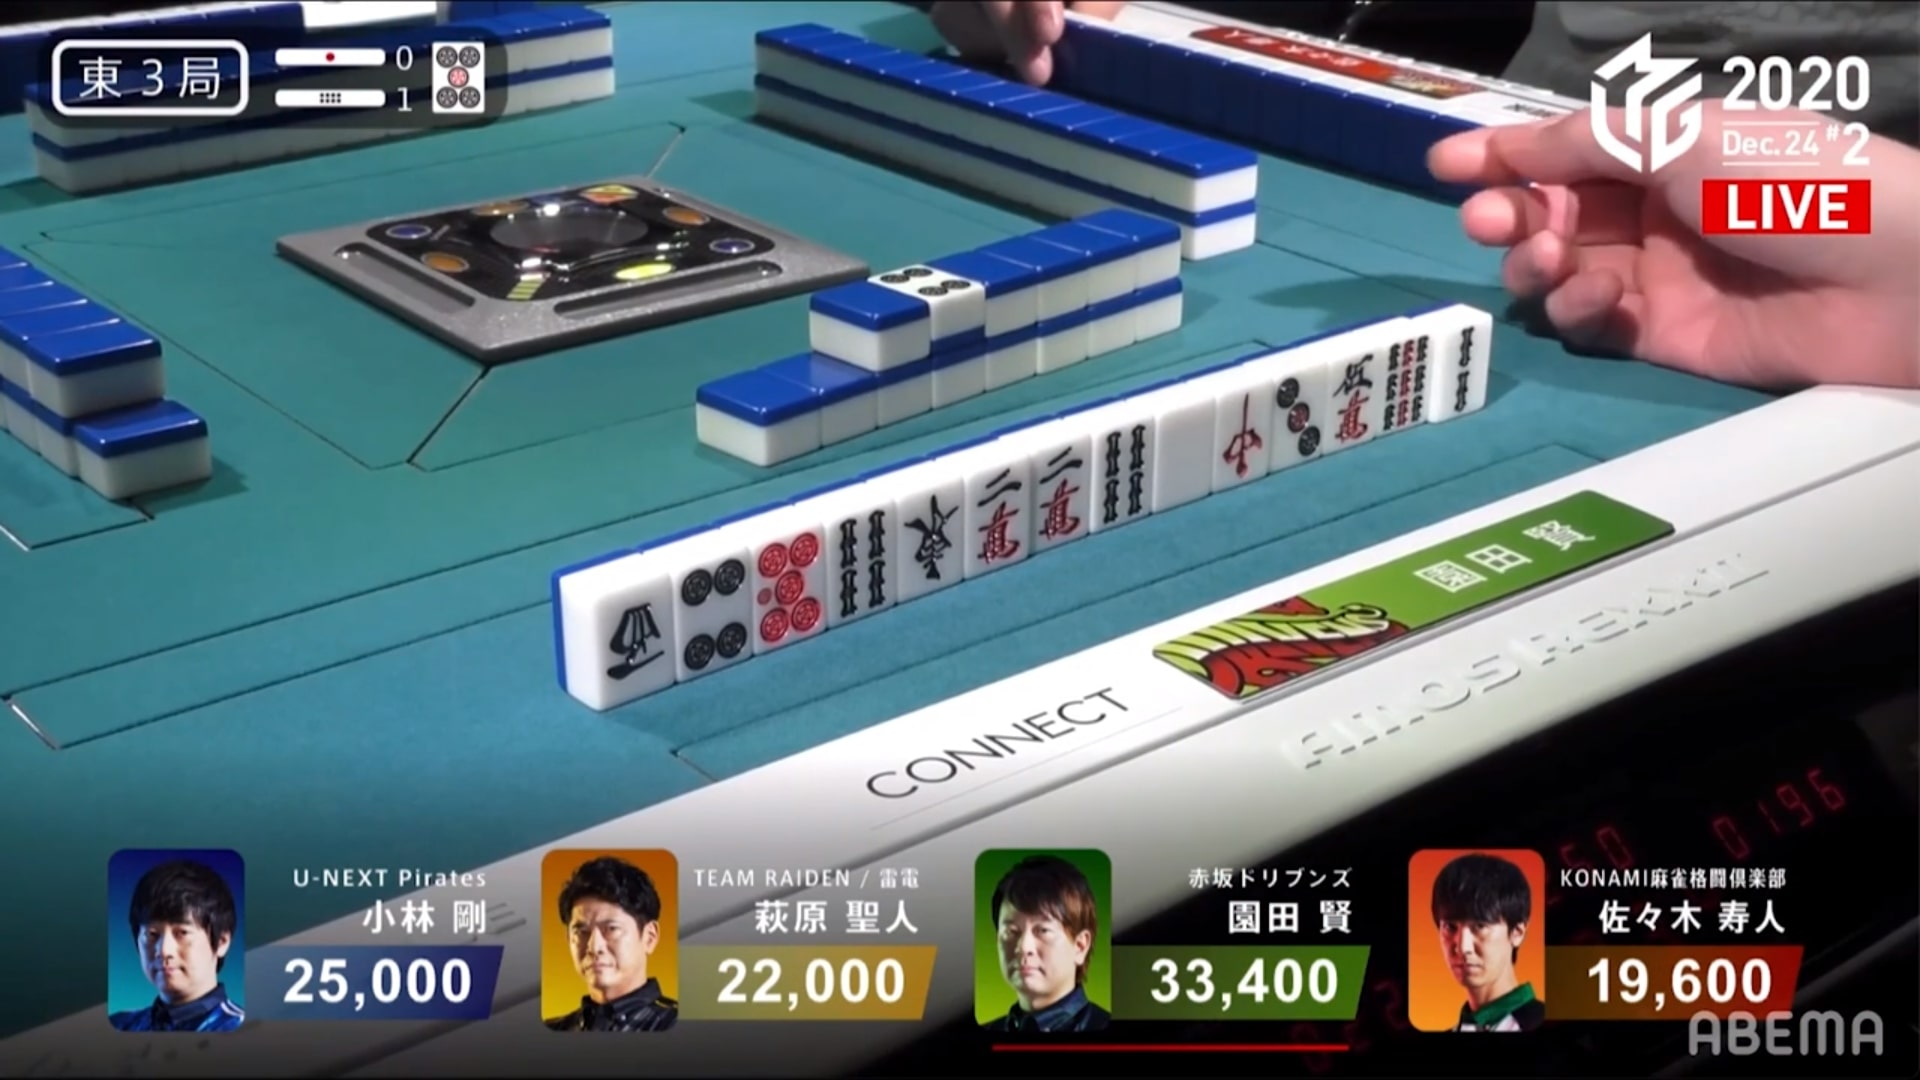2m: (960, 458, 1026, 568), (1029, 444, 1087, 542)
2s: (1433, 320, 1484, 414)
3p: (1267, 368, 1329, 468)
4p: (673, 556, 756, 673)
4s: (829, 509, 897, 615), (1091, 421, 1153, 522)
5m: (1325, 344, 1375, 452)
5pr: (746, 526, 828, 646)
9s: (1377, 334, 1425, 430)
chun: (1212, 386, 1269, 483)
haku: (1151, 401, 1215, 501)
hand_ton_3: (47, 38, 258, 113)
round_1: (269, 82, 415, 113)
sha: (593, 574, 680, 696)
team_drivens: (1149, 571, 1437, 702)
ton: (899, 487, 960, 589)
